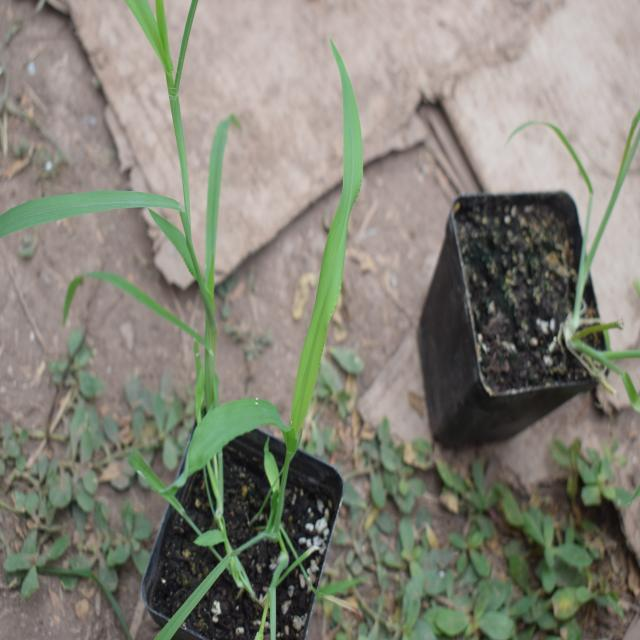crabgrass: (22, 30, 402, 523)
